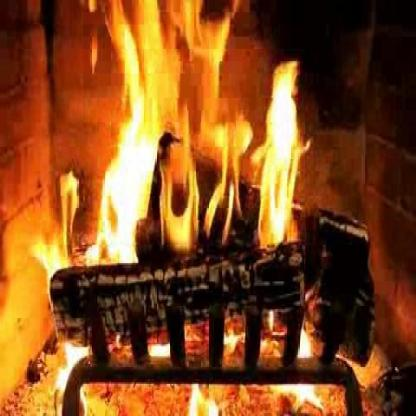fire: (4, 0, 399, 402)
